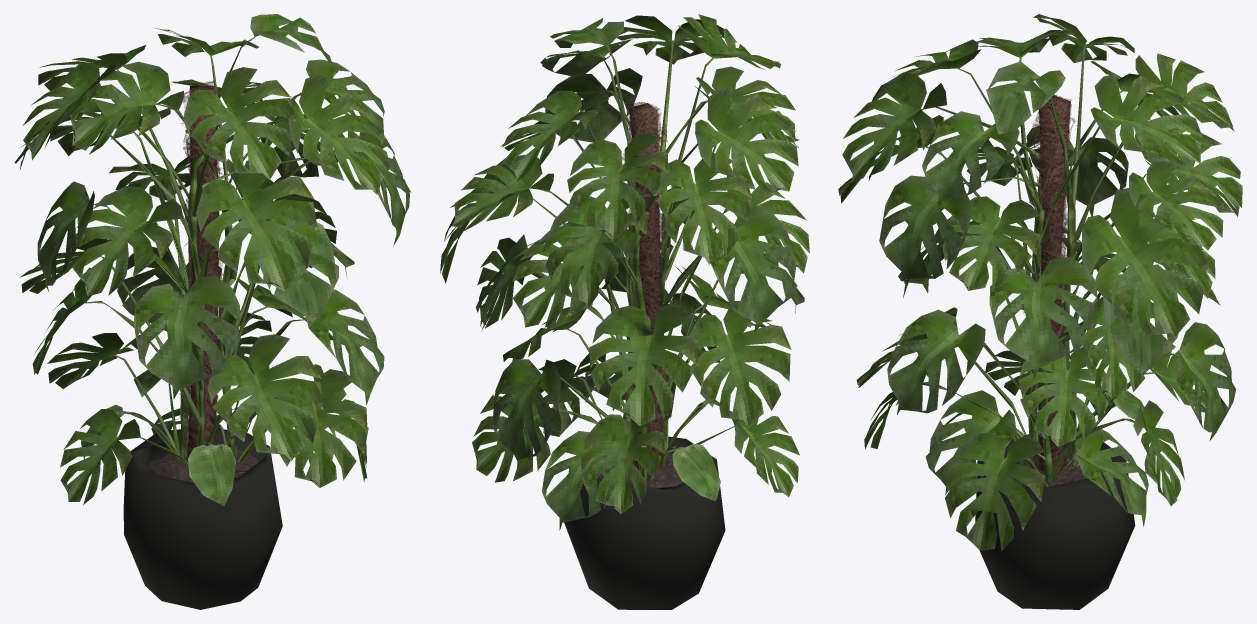
The picture shows the model from 3 angles, left to right: view 1: azimuth 30°, elevation 25°; view 2: azimuth 150°, elevation 25°; view 3: azimuth 270°, elevation 25°; orthographic projection. The views are drawn at different scales.
Visible parts, largest first — view 1: Monstera_plant; view 2: Monstera_plant; view 3: Monstera_plant.
Part boxes in pixels (x1=…): Monstera_plant: x1=14, y1=14, x2=411, y2=609; Monstera_plant: x1=440, y1=14, x2=809, y2=609; Monstera_plant: x1=838, y1=14, x2=1242, y2=609.
Size of the model in its own units: 0.7999 by 1.28 by 0.8604.
Materials: 5 (4 with a texture image).
